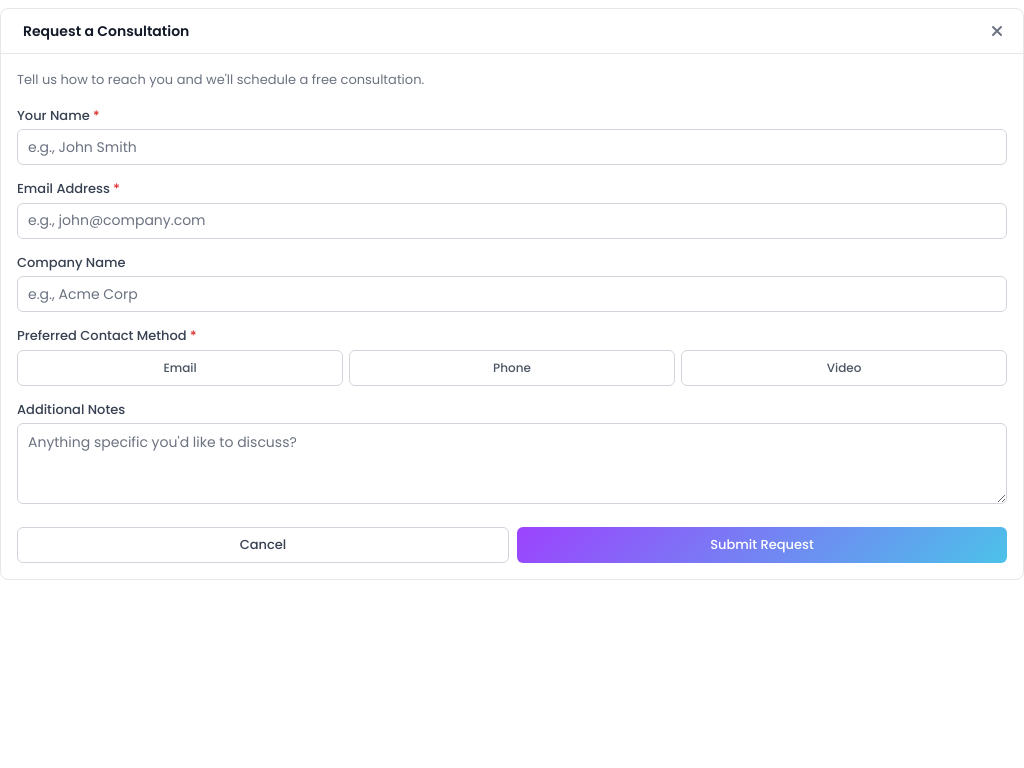
Test case: ConsultationRequestForm › Validation › should validate required name field
The image size is (1024, 768).
Click the button "Submit Request": (762, 545) [517,527,1007,563]
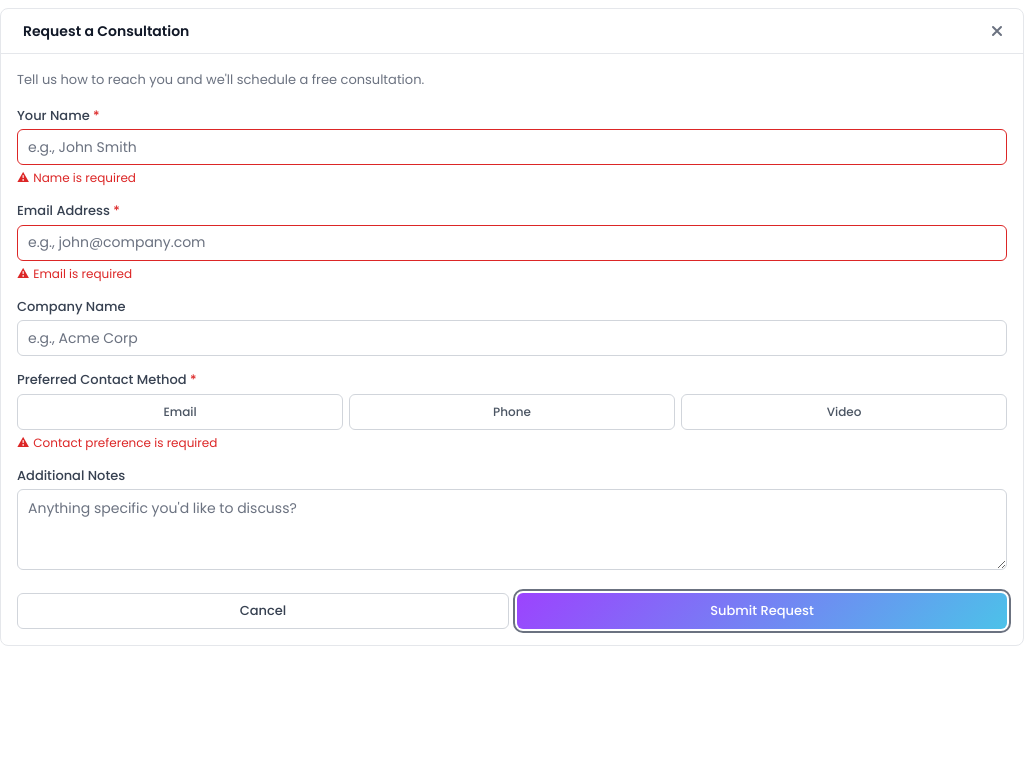
Result: the text "⚠ Name is required" is shown at [17,169,136,186]
